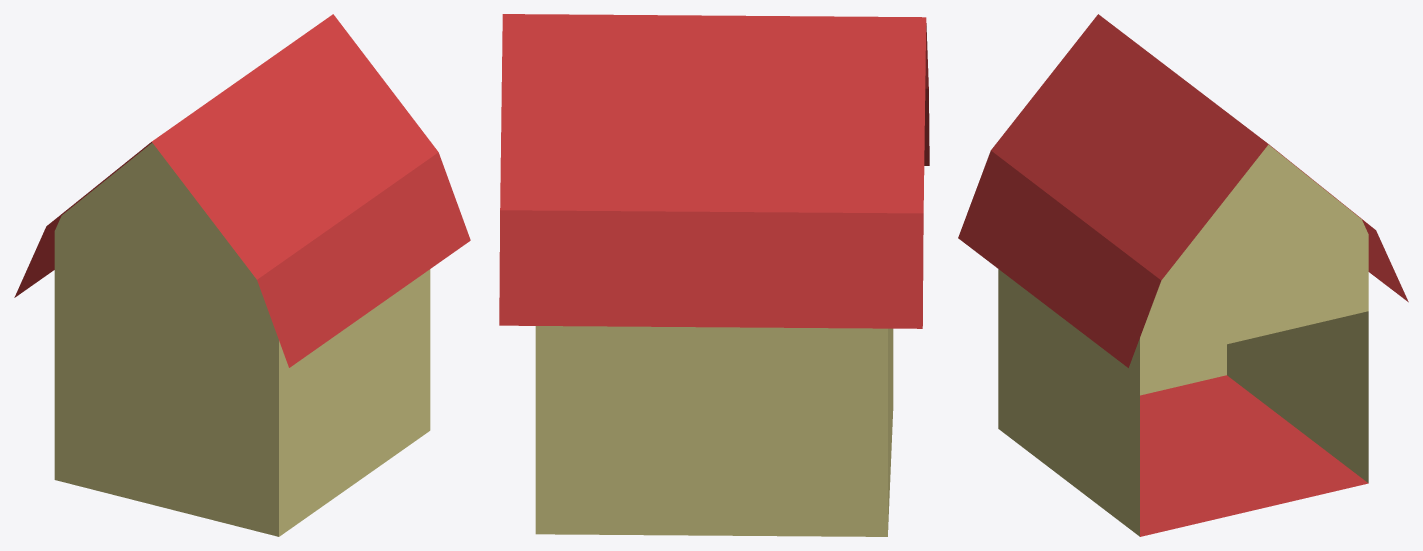
3 renders of one model, left to right at view 1: azimuth 30°, elevation 25°; view 2: azimuth 150°, elevation 25°; view 3: azimuth 270°, elevation 25°, orthographic. The views are drawn at different scales.
Size of the model in its own units: 15.66 by 15.24 by 14.06.
